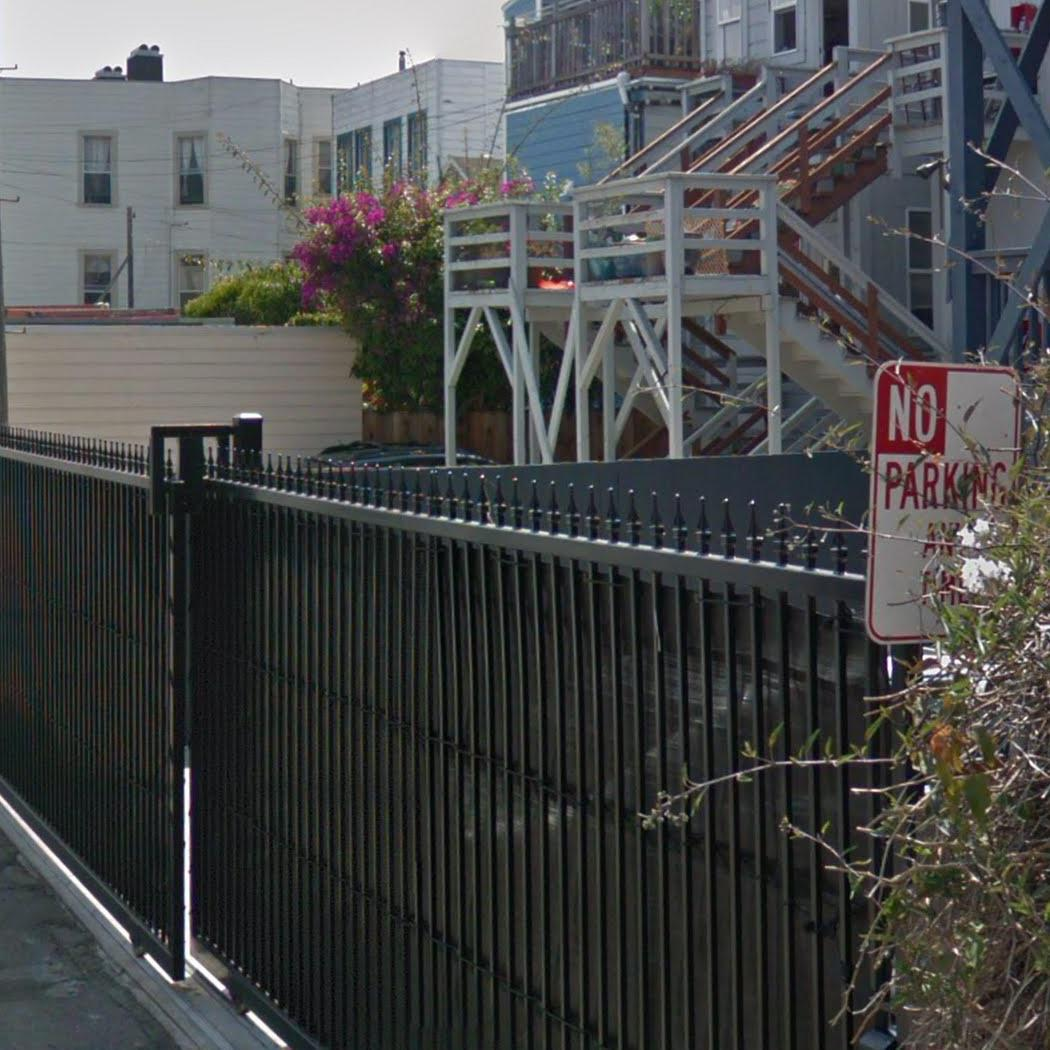No Parking Anytime: (870, 358, 1027, 644)
